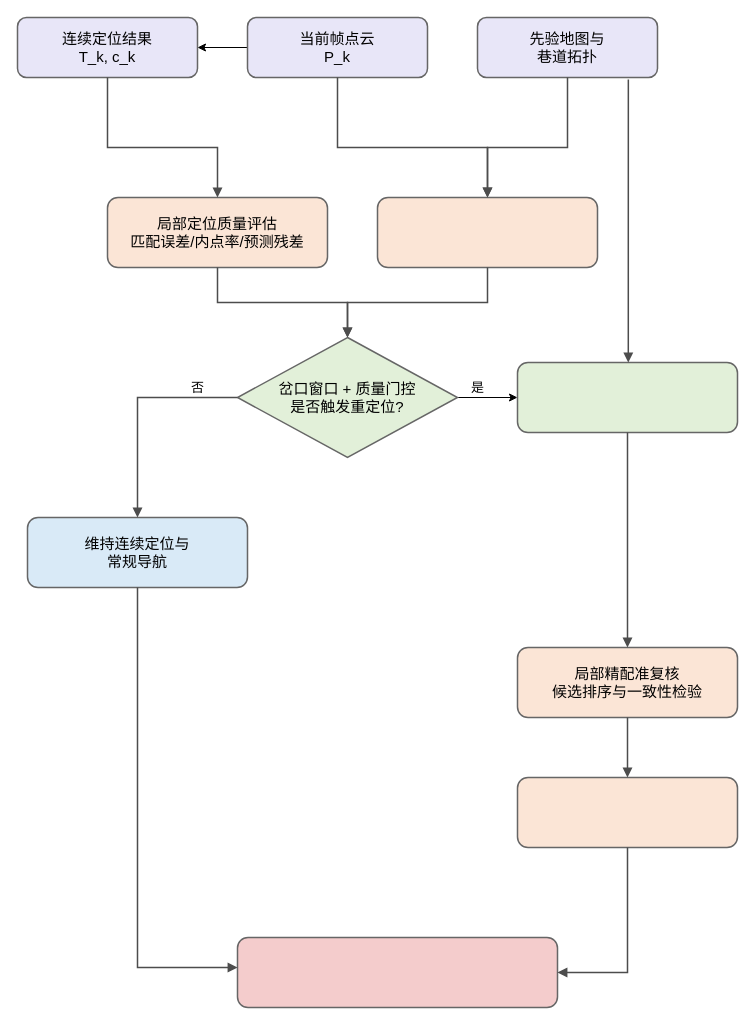
Image size: 756x1026. Some labels were removed from this diagram. The box of each missing label's shape, as (x1, y1, x2, y2) in pixels:
全局候选生成 BBS / FPFH-RANSAC / TEASER: (516, 361, 738, 433)
定位-重定位-导航协同状态机: (236, 936, 558, 1008)
岔口感知与 结构判别: (376, 196, 598, 268)
时延补偿与 位姿重置: (516, 776, 738, 848)
